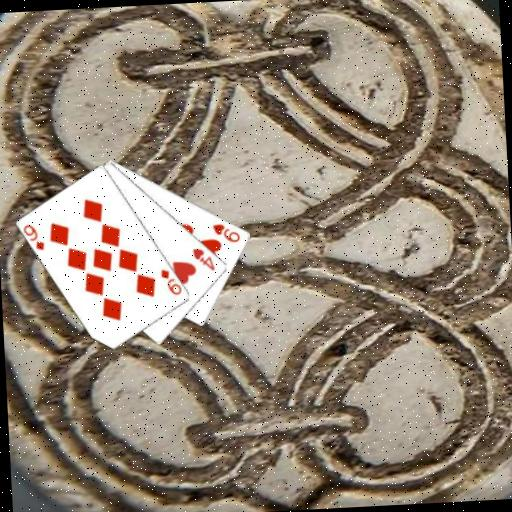4H: (189, 245, 217, 273)
9D: (157, 265, 184, 298), (21, 221, 47, 253)
9H: (209, 220, 242, 245)
